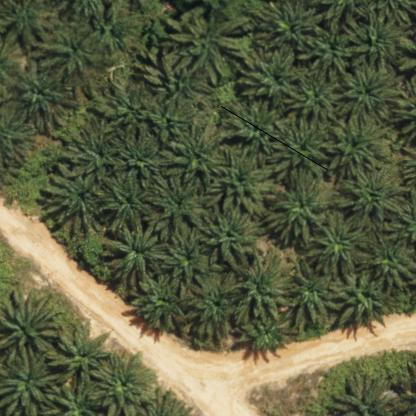Palm Oil: (163, 6, 252, 88), (258, 166, 334, 252), (202, 143, 287, 218), (10, 59, 82, 134), (101, 219, 174, 292), (335, 162, 413, 226), (264, 114, 330, 189), (44, 317, 112, 389), (220, 96, 286, 170), (37, 171, 112, 236), (30, 24, 111, 84), (105, 124, 175, 192), (332, 60, 402, 127), (62, 116, 129, 185), (154, 118, 224, 183), (320, 120, 392, 183), (237, 246, 300, 318), (85, 79, 160, 139), (343, 6, 407, 76), (353, 225, 416, 296), (236, 44, 304, 108), (149, 172, 212, 240), (304, 212, 366, 279), (200, 205, 259, 275), (127, 269, 188, 335), (187, 271, 237, 351), (161, 223, 214, 298), (282, 61, 344, 124), (286, 261, 346, 326), (295, 18, 354, 82), (137, 51, 214, 100), (332, 267, 387, 332), (97, 177, 158, 235), (144, 94, 192, 144), (235, 314, 295, 354)
